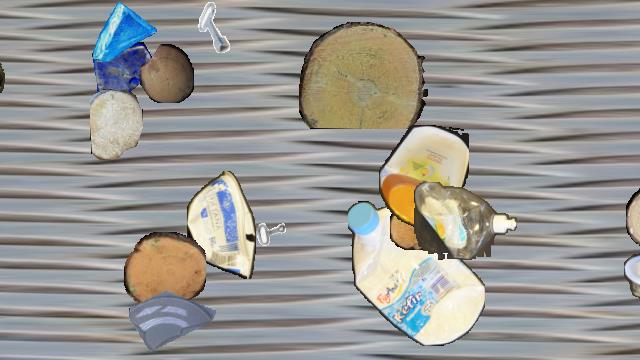glass: (129, 273, 215, 359), (90, 42, 156, 108), (91, 1, 157, 67)
metal: (237, 193, 295, 251), (190, 1, 242, 53)
plastic: (348, 200, 484, 346), (379, 125, 469, 227), (414, 182, 516, 260), (187, 171, 255, 279), (0, 38, 6, 212), (624, 240, 640, 300)
wood: (299, 22, 427, 128), (124, 232, 206, 310), (90, 89, 142, 159), (140, 44, 194, 102), (390, 204, 434, 250), (626, 185, 640, 261)
